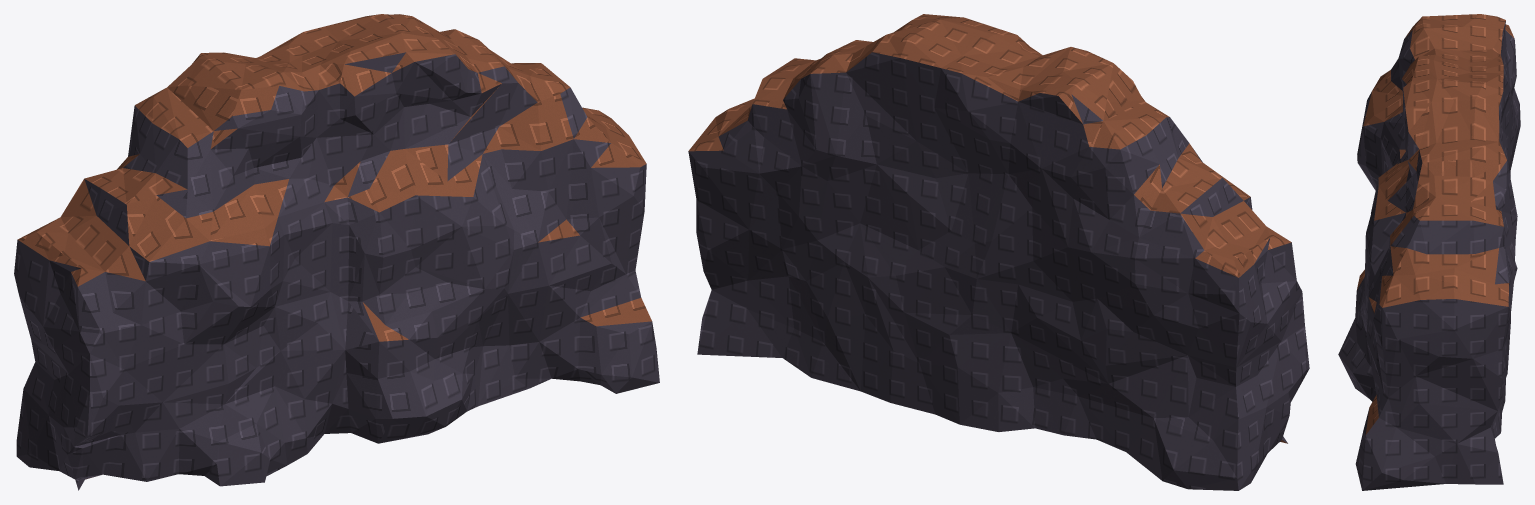
File: BasaltCliffWall.glb
3 renders of one model, left to right at view 1: azimuth 30°, elevation 25°; view 2: azimuth 150°, elevation 25°; view 3: azimuth 270°, elevation 25°, orthographic. The views are drawn at different scales.
Visible parts, largest first — view 1: BasaltCliffWall_Rock, BasaltCliffWall_Top; view 2: BasaltCliffWall_Rock, BasaltCliffWall_Top; view 3: BasaltCliffWall_Rock, BasaltCliffWall_Top.
Boxes of the visible parts, box(x1,y1,x2,y2) form: BasaltCliffWall_Rock: box(14, 52, 659, 490); BasaltCliffWall_Top: box(17, 14, 651, 479); BasaltCliffWall_Rock: box(688, 52, 1309, 490); BasaltCliffWall_Top: box(688, 14, 1291, 443); BasaltCliffWall_Rock: box(1338, 21, 1520, 490); BasaltCliffWall_Top: box(1357, 14, 1514, 434).
Size of the model in its own units: 20.41 by 12.8 by 6.46.
2 materials, 2 textured.
